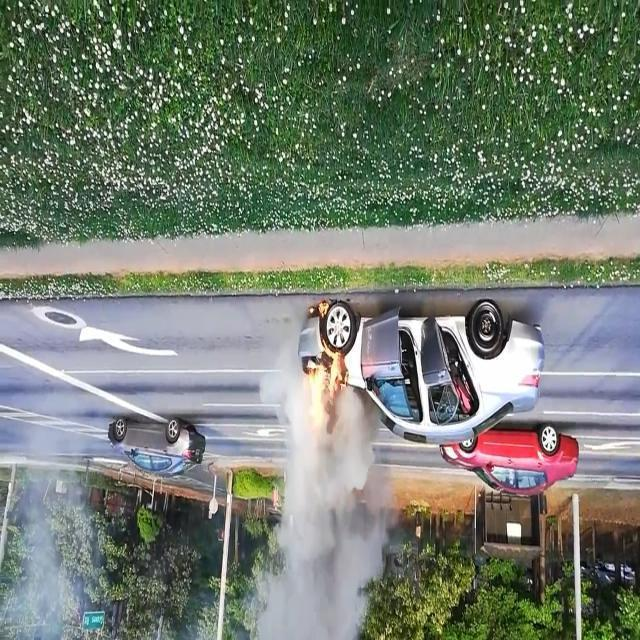fire: (294, 301, 359, 432)
